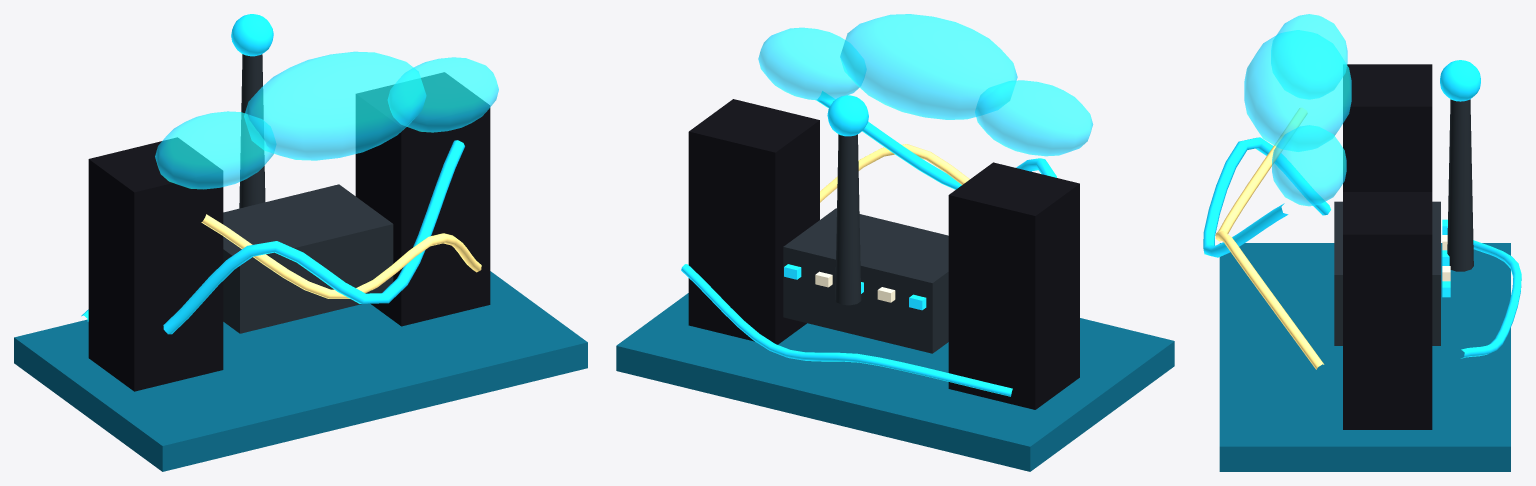
File: cloud-cable-manifold.glb
The picture shows the model from 3 angles, left to right: view 1: azimuth 30°, elevation 25°; view 2: azimuth 150°, elevation 25°; view 3: azimuth 270°, elevation 25°; orthographic projection. The views are drawn at different scales.
Visible parts, largest first — view 1: manifold-service-slab, manifold-rack-left, manifold-rack-right, manifold-switch-core, manifold-cloud-mid, manifold-cloud-left, manifold-cloud-right, fiber-bundle-main, manifold-uplink-pin, fiber-bundle-return, manifold-uplink-glow; view 2: manifold-service-slab, manifold-rack-left, manifold-rack-right, manifold-switch-core, manifold-cloud-mid, manifold-cloud-left, manifold-cloud-right, manifold-uplink-pin, fiber-bundle-low, fiber-bundle-main, manifold-uplink-glow, fiber-bundle-return; view 3: manifold-service-slab, manifold-rack-right, manifold-rack-left, manifold-cloud-mid, manifold-cloud-left, manifold-cloud-right, manifold-uplink-pin, fiber-bundle-main, fiber-bundle-return, manifold-switch-core, fiber-bundle-low, manifold-uplink-glow.
Part boxes in pixels (x1,y1,x2,y2): manifold-service-slab: (14,271,587,471); manifold-rack-left: (88,137,223,391); manifold-rack-right: (355,72,490,326); manifold-switch-core: (223,184,393,333); manifold-cloud-mid: (244,51,426,160); manifold-cloud-left: (155,111,275,189); manifold-cloud-right: (388,57,498,132); fiber-bundle-main: (163,140,464,334); manifold-uplink-pin: (239,54,265,208); fiber-bundle-return: (201,214,481,298); manifold-uplink-glow: (231,14,273,56); manifold-service-slab: (616,293,1174,471); manifold-rack-left: (948,162,1079,409); manifold-rack-right: (688,99,819,344); manifold-switch-core: (783,208,948,353); manifold-cloud-mid: (840,14,1017,119); manifold-cloud-left: (975,80,1092,156); manifold-cloud-right: (758,27,866,100); manifold-uplink-pin: (835,134,861,305); fiber-bundle-low: (681,264,1012,396); fiber-bundle-main: (816,91,1056,189); manifold-uplink-glow: (827,95,868,136); fiber-bundle-return: (820,144,969,202); manifold-service-slab: (1219,243,1510,471); manifold-rack-right: (1343,192,1432,429); manifold-rack-left: (1343,64,1432,191); manifold-cloud-mid: (1244,30,1351,151); manifold-cloud-left: (1271,14,1347,98); manifold-cloud-right: (1272,125,1346,206); manifold-uplink-pin: (1447,99,1473,271); fiber-bundle-main: (1203,137,1330,257); fiber-bundle-return: (1215,108,1324,369); manifold-switch-core: (1334,201,1440,345); fiber-bundle-low: (1461,240,1521,358); manifold-uplink-glow: (1440,60,1480,101).
Size of the model in its own units: 1.72 by 1.28 by 1.14.
